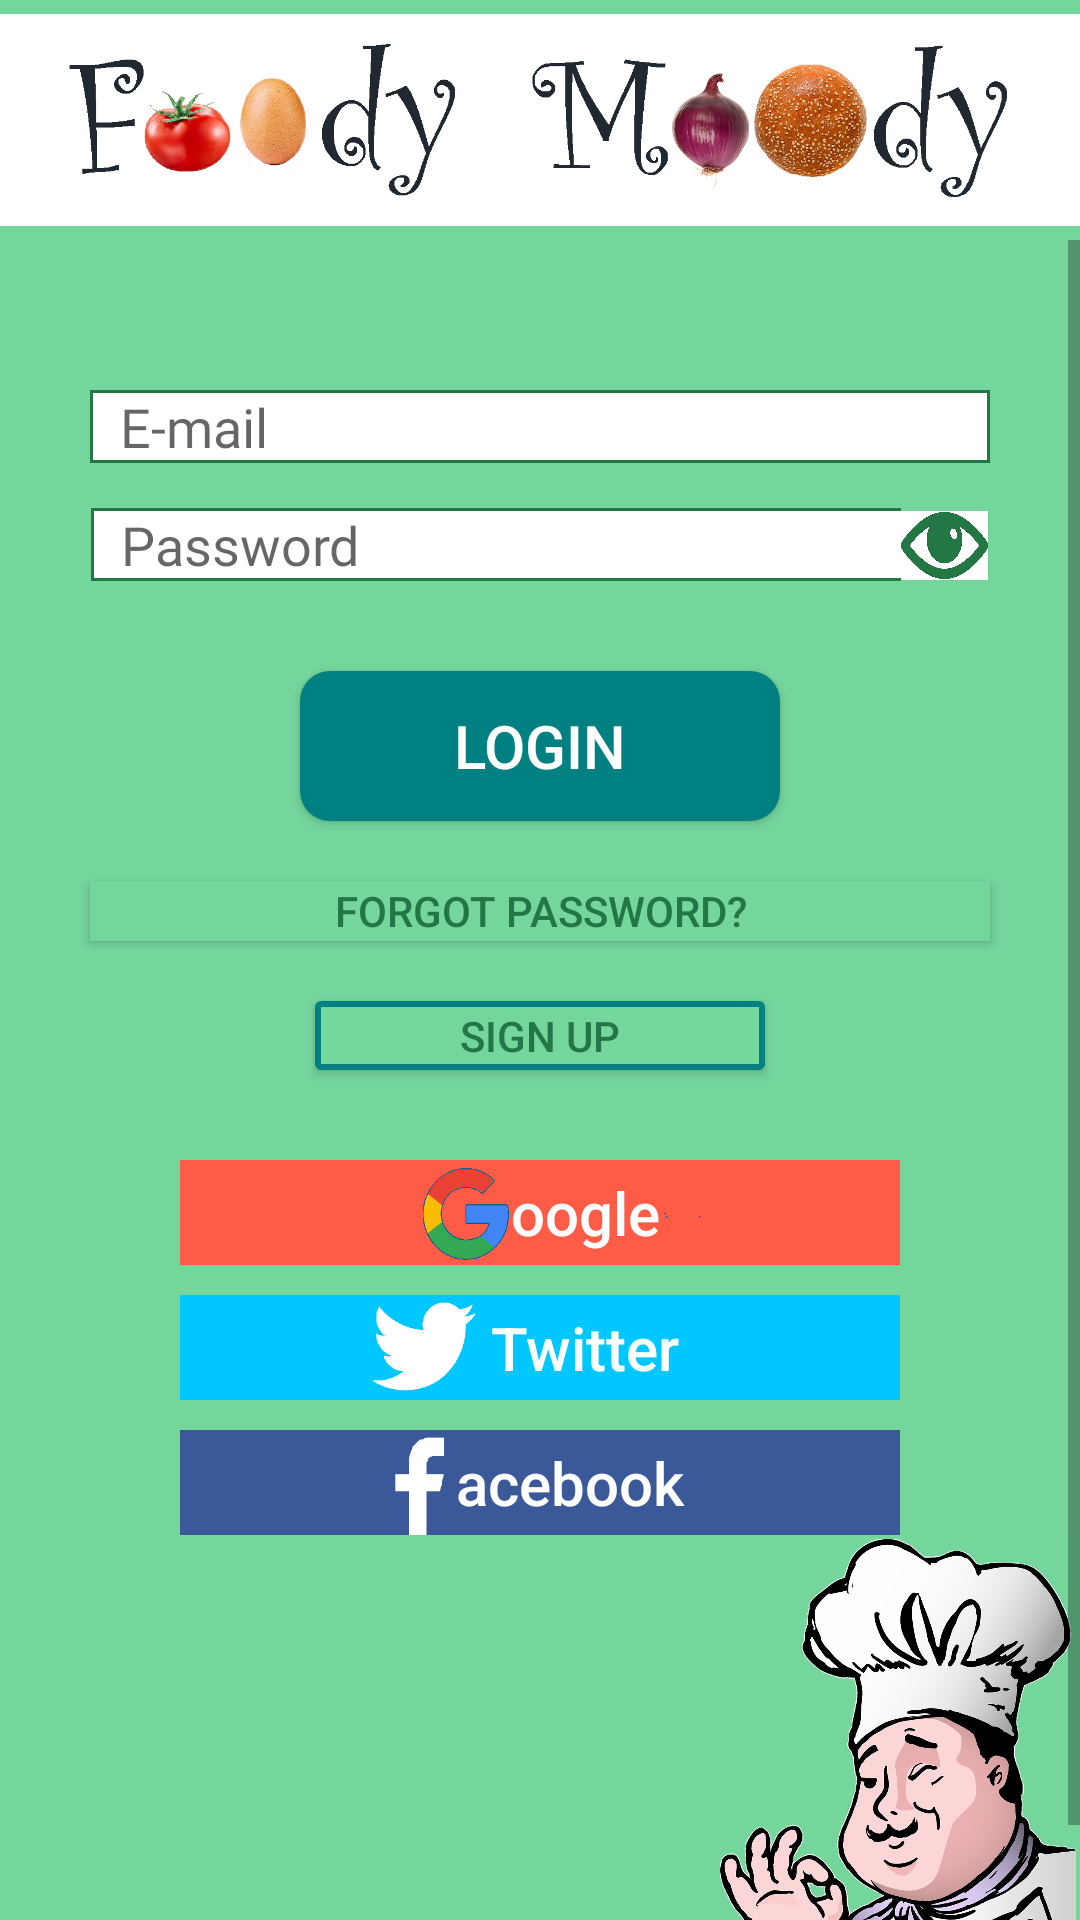

Named icons in this screenshot (1080×1920) and their centers, [x,y]:
visible eye: [944,545]
